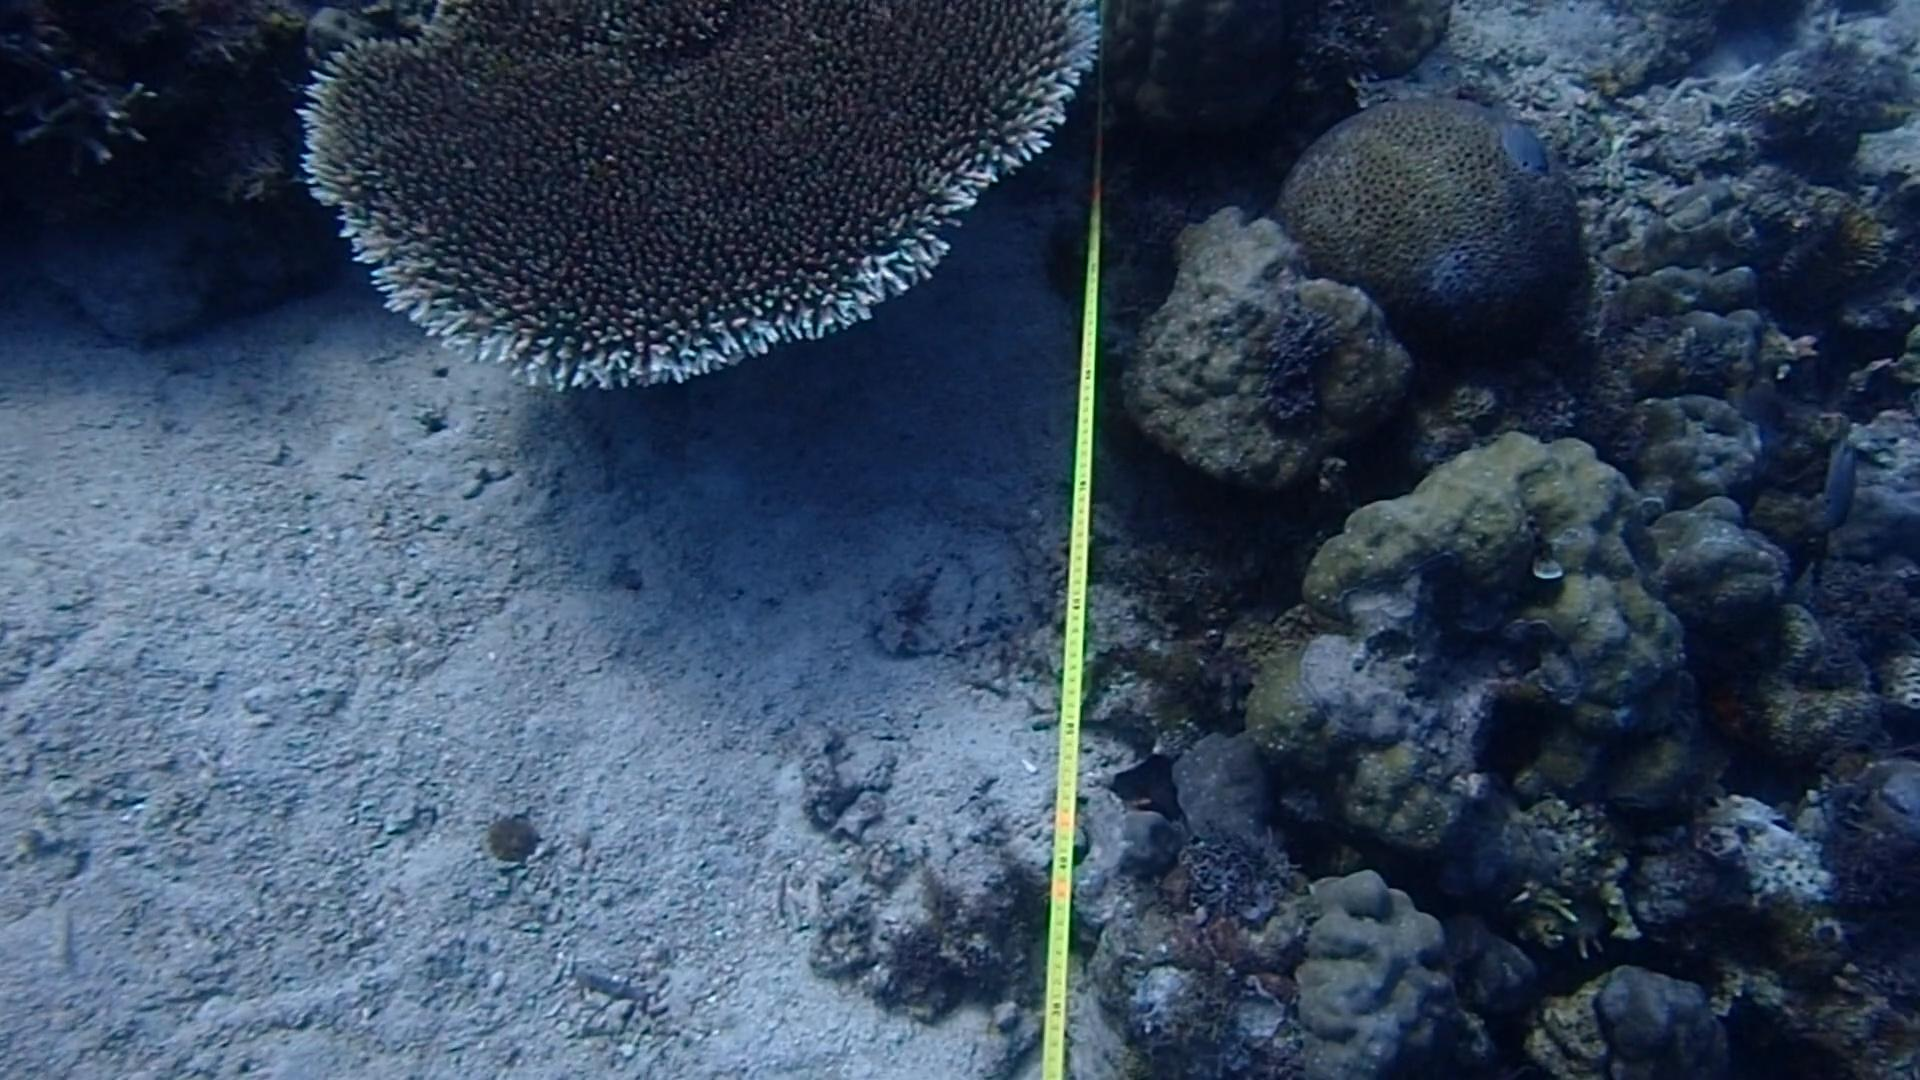Light Fish: (1477, 99, 1560, 194), (1800, 415, 1865, 535)
